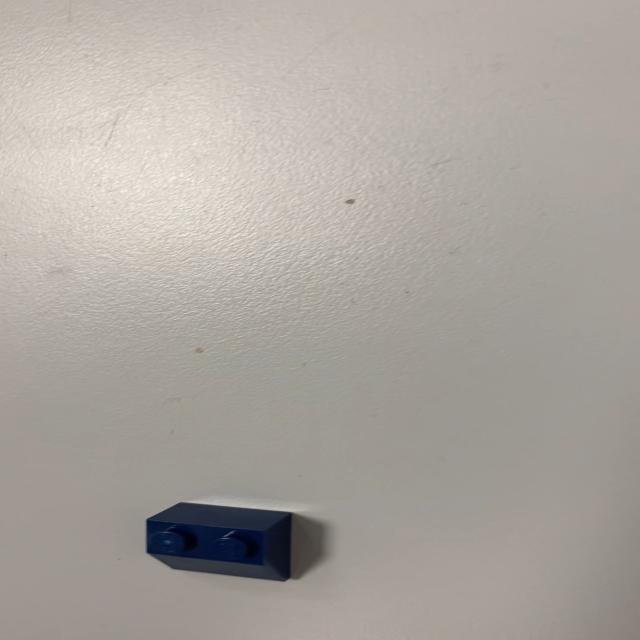P2x2x1: (142, 501, 292, 582)
